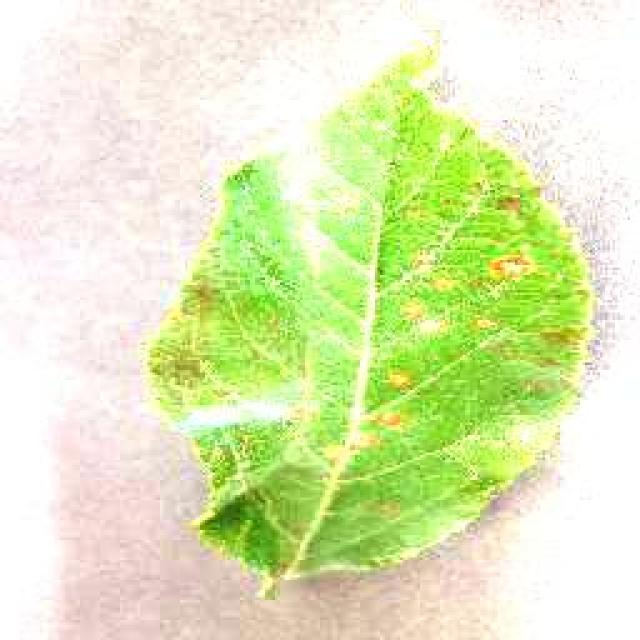apple healthy: (140, 32, 598, 600)
